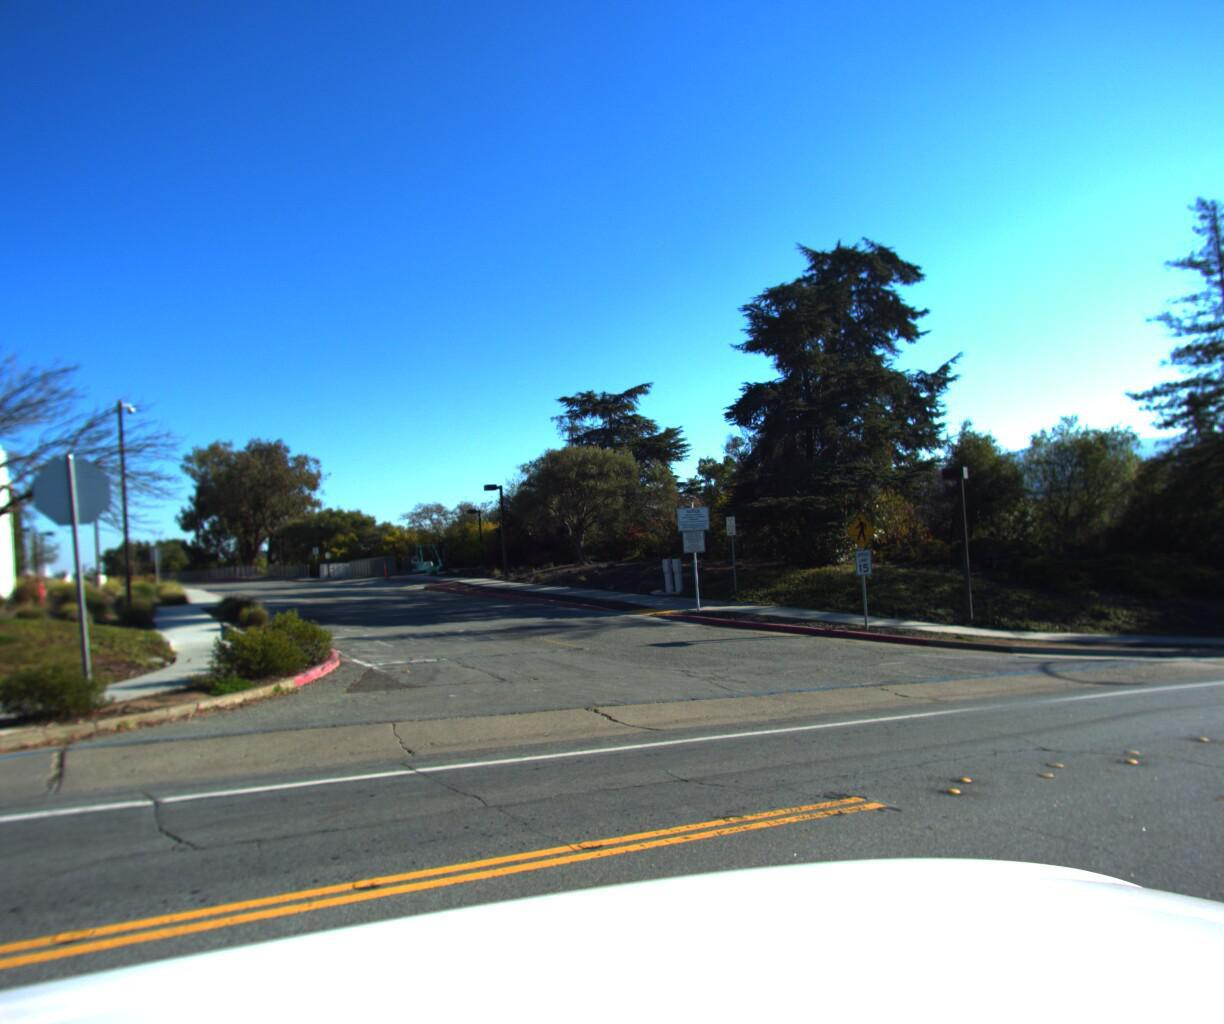other_vehicle: (406, 536, 458, 579)
